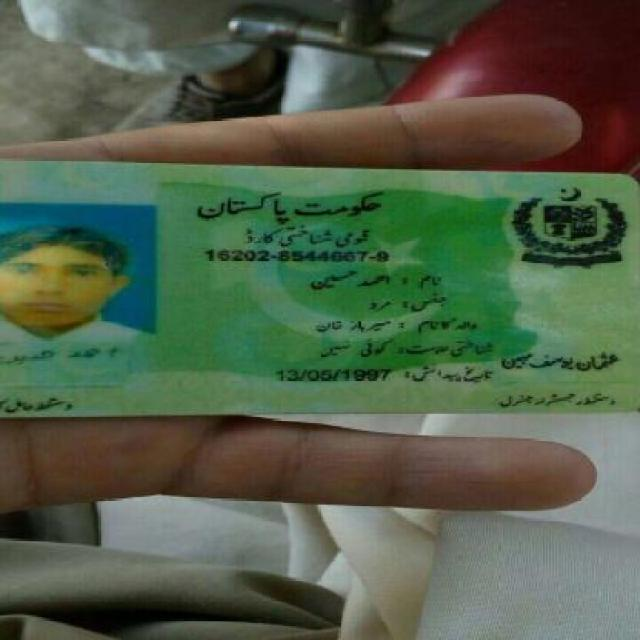Front: (4, 143, 638, 423)
